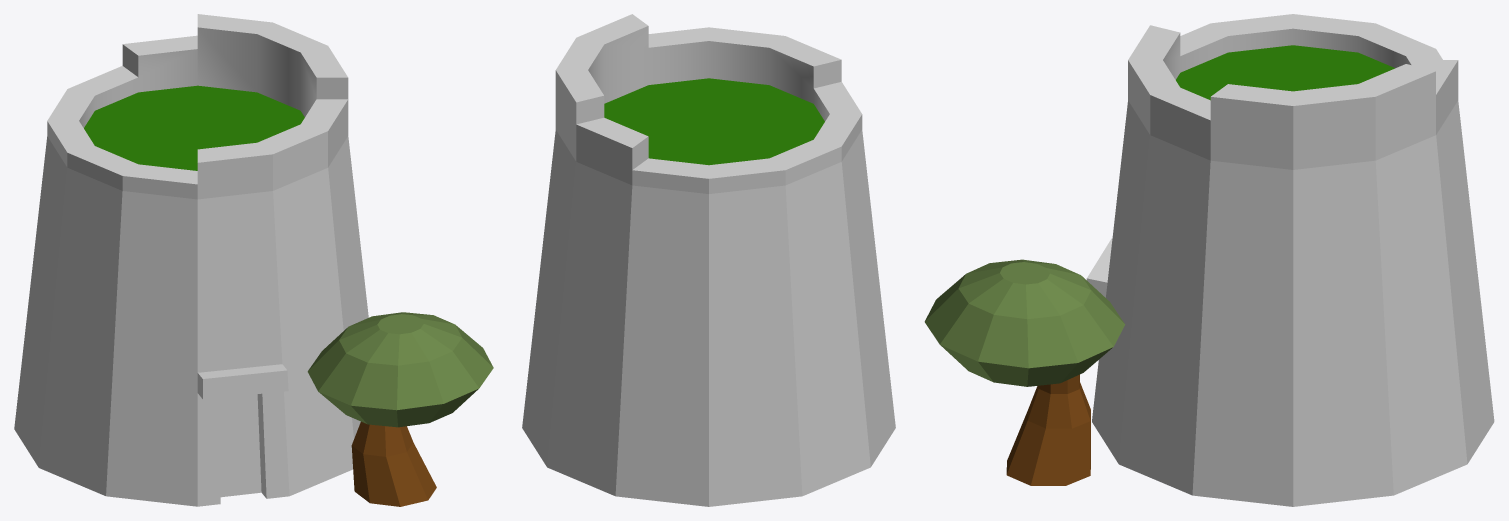
The model's file is nuraghe.fbx.
The picture shows the model from 3 angles, left to right: view 1: azimuth 30°, elevation 25°; view 2: azimuth 150°, elevation 25°; view 3: azimuth 270°, elevation 25°; orthographic projection. The views are drawn at different scales.
Parts seen in each view (by area): view 1: Model, Group2, Group1; view 2: Model; view 3: Model, Group2, Group1.
Part boxes in pixels (<box>): Model: <box>14,14,368,506</box>; Group2: <box>307,312,493,427</box>; Group1: <box>351,421,436,506</box>; Model: <box>522,14,895,506</box>; Model: <box>1086,14,1494,506</box>; Group2: <box>924,259,1125,386</box>; Group1: <box>1006,374,1090,485</box>.
Bounding box in the file's own units: 3.6 × 3.76 × 5.01.
